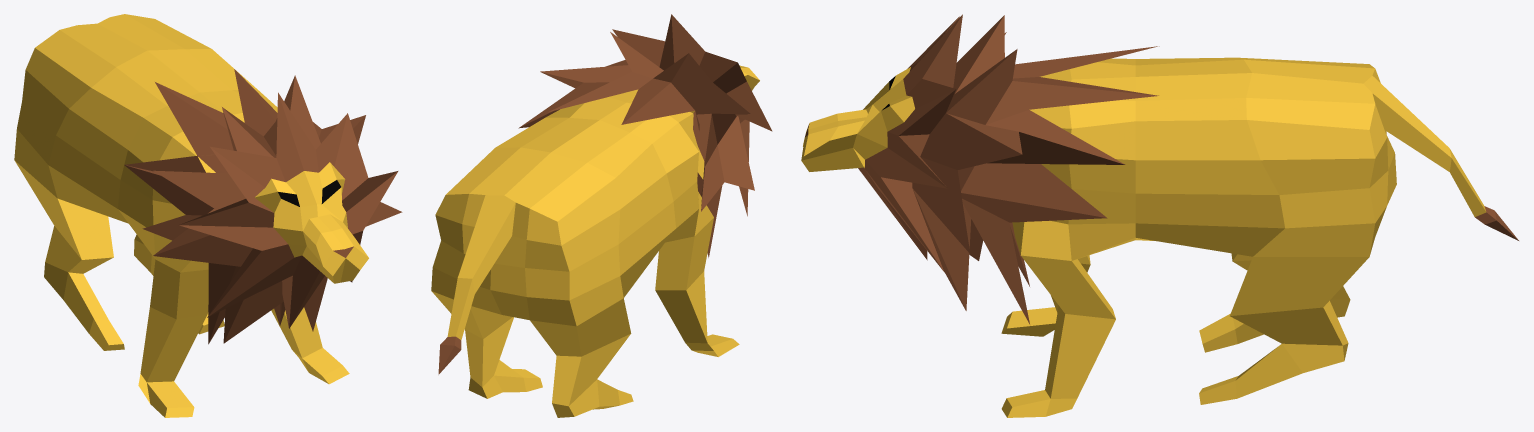
Rendered from lion.fbx.
3 renders of one model, left to right at view 1: azimuth 30°, elevation 25°; view 2: azimuth 150°, elevation 25°; view 3: azimuth 270°, elevation 25°, orthographic. The views are drawn at different scales.
Parts seen in each view (by area): view 1: Cube; view 2: Cube; view 3: Cube.
Part boxes in pixels (<box>): Cube: <box>14,14,402,417</box>; Cube: <box>431,14,772,417</box>; Cube: <box>801,14,1518,417</box>.
Size of the model in its own units: 297 by 397 by 706.
